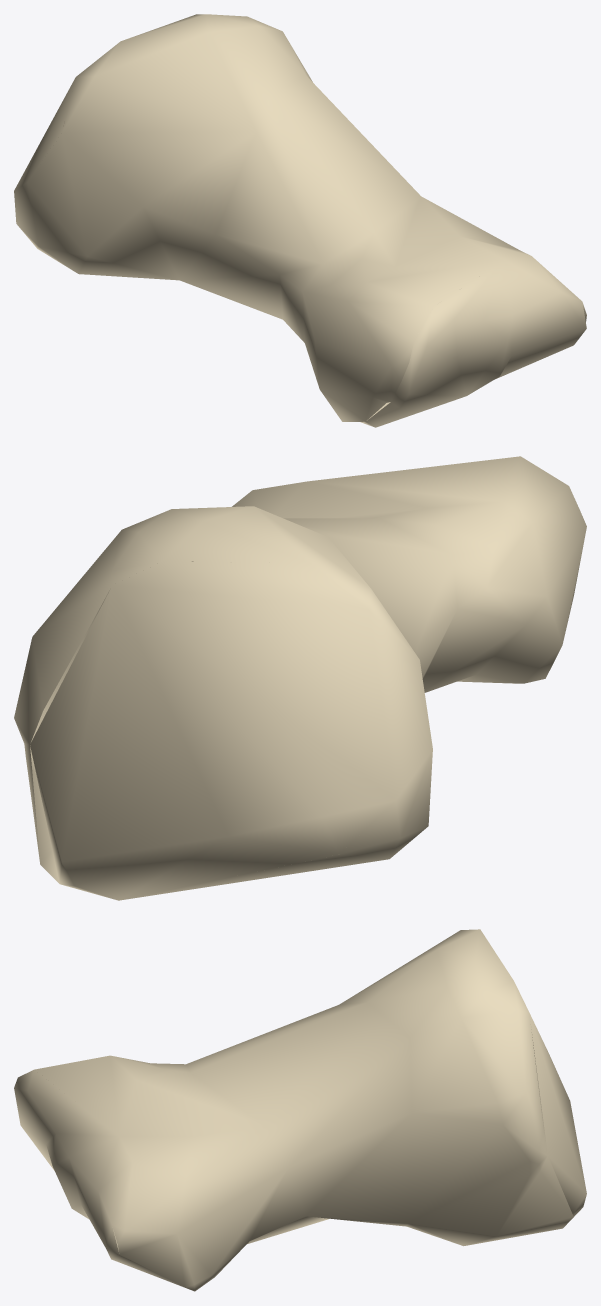
The model's file is esqueleto-middle-phalanx-of-second-finger-of-foot-l.glb.
The picture shows the model from 3 angles, top to bottom: view 1: azimuth 30°, elevation 25°; view 2: azimuth 150°, elevation 25°; view 3: azimuth 270°, elevation 25°; orthographic projection. The views are drawn at different scales.
Visible parts, largest first — view 1: Middle phalanx of second finger of foot.l; view 2: Middle phalanx of second finger of foot.l; view 3: Middle phalanx of second finger of foot.l.
Boxes of the visible parts, <box> form: Middle phalanx of second finger of foot.l: <box>14,14,586,427</box>; Middle phalanx of second finger of foot.l: <box>14,456,586,900</box>; Middle phalanx of second finger of foot.l: <box>14,929,586,1291</box>.
Size of the model in its own units: 0.0123 by 0.00908 by 0.0176.
